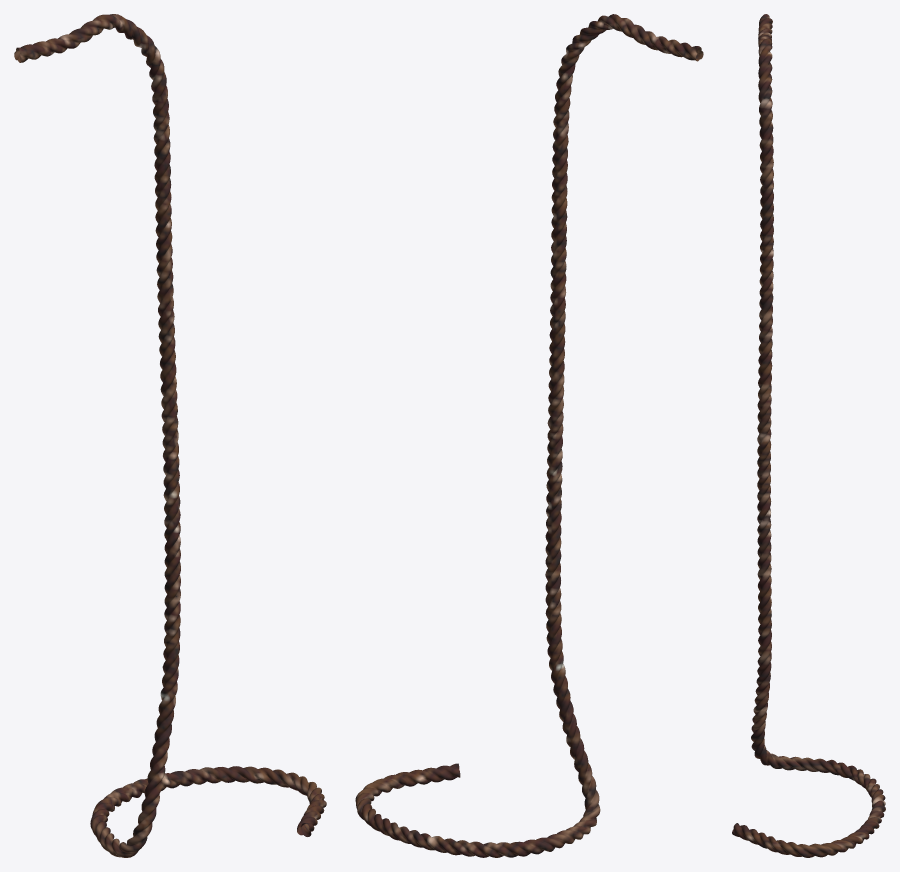
File: PIG_rope_straight.glb
3 renders of one model, left to right at view 1: azimuth 30°, elevation 25°; view 2: azimuth 150°, elevation 25°; view 3: azimuth 270°, elevation 25°, orthographic. The views are drawn at different scales.
Visible parts, largest first — view 1: Circle.002; view 2: Circle.002; view 3: Circle.002.
Boxes of the visible parts, x1,y1,x2,y2 form: Circle.002: (14, 14, 326, 857); Circle.002: (355, 14, 703, 857); Circle.002: (732, 14, 885, 857).
Bounding box in the file's own units: 158 × 399 × 76.94.
1 material, 1 textured.
